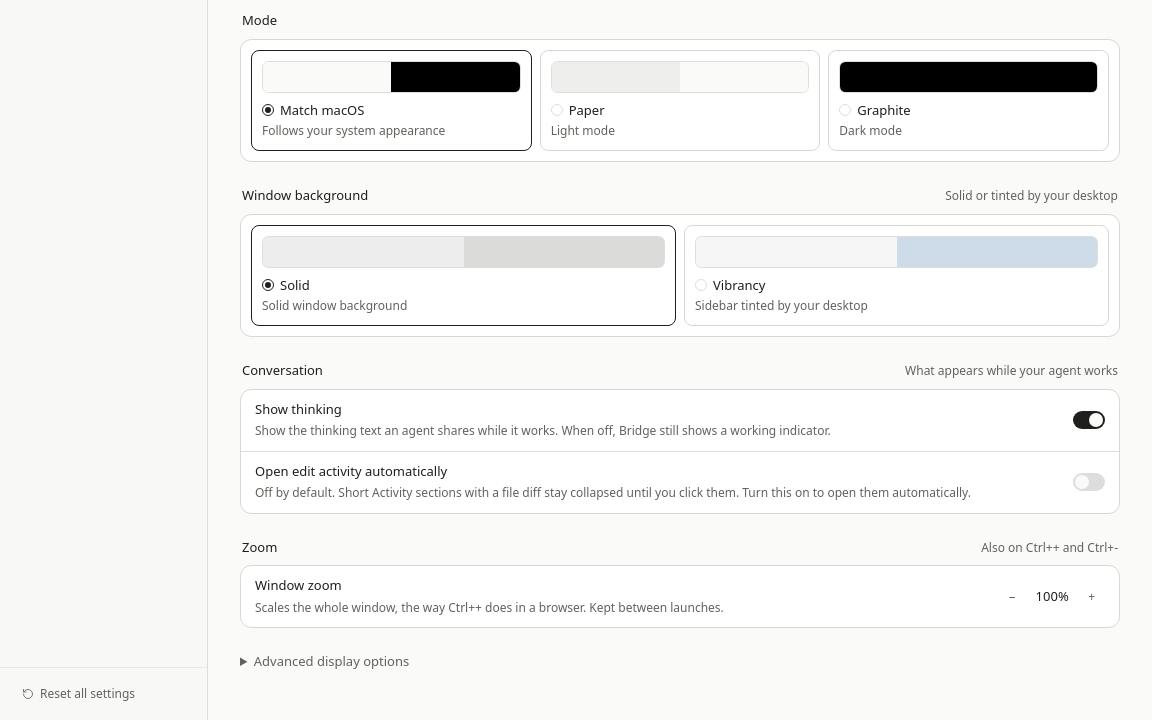
it: SettingsScreen › mounted › names what Reset all deletes before it deletes it
The width and height of the screenshot is (1152, 720).
(page scrolled)
Click the button "Reset all settings": (79, 694) [12, 680, 145, 708]
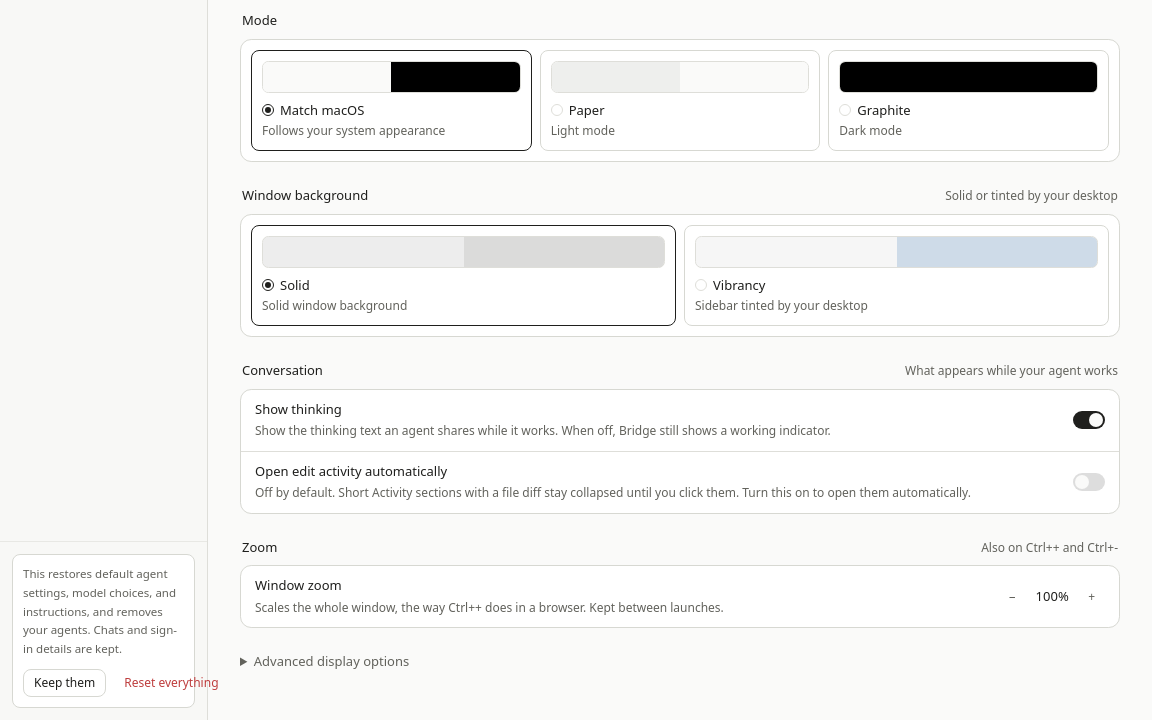
Now the text "removes your agents" is shown, box [23, 566, 177, 656]
Now the text "Keep them" is shown
Click the button "Keep them": (65, 683) [23, 669, 106, 697]
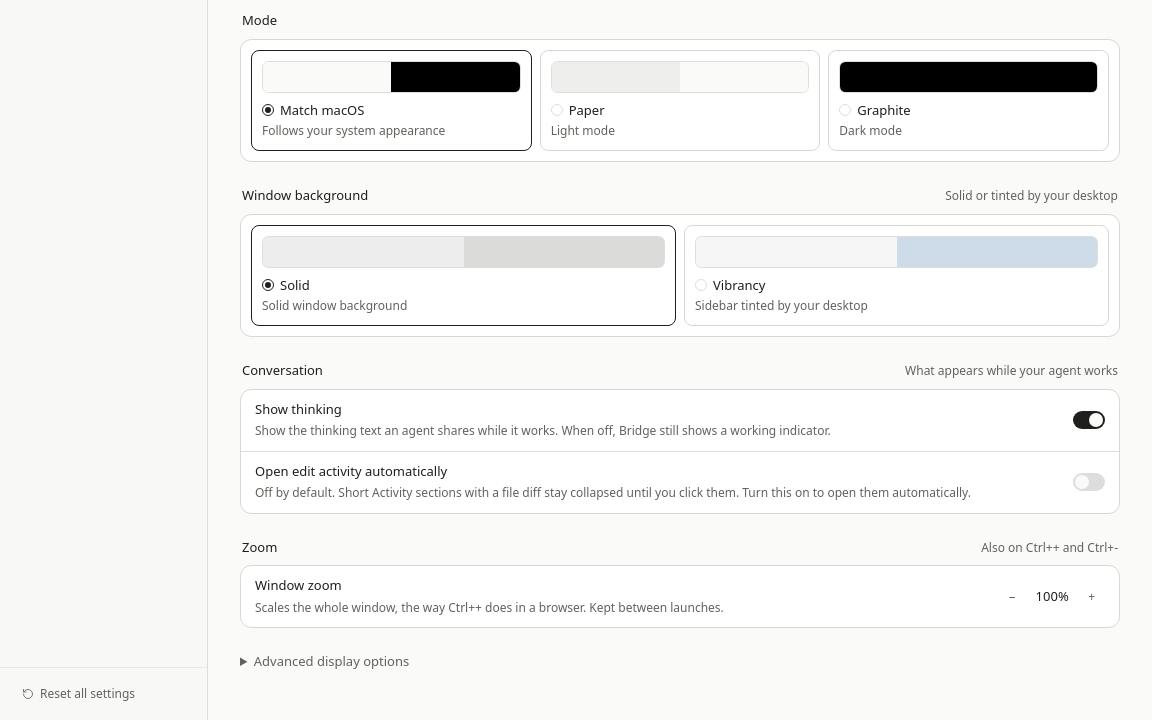
Now the text "removes your agents" is gone
